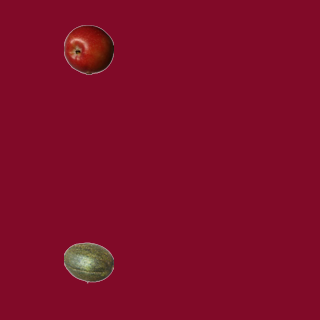Apple Braeburn: (63, 24, 113, 74)
Melon Piel de Sapo: (63, 237, 113, 287)
